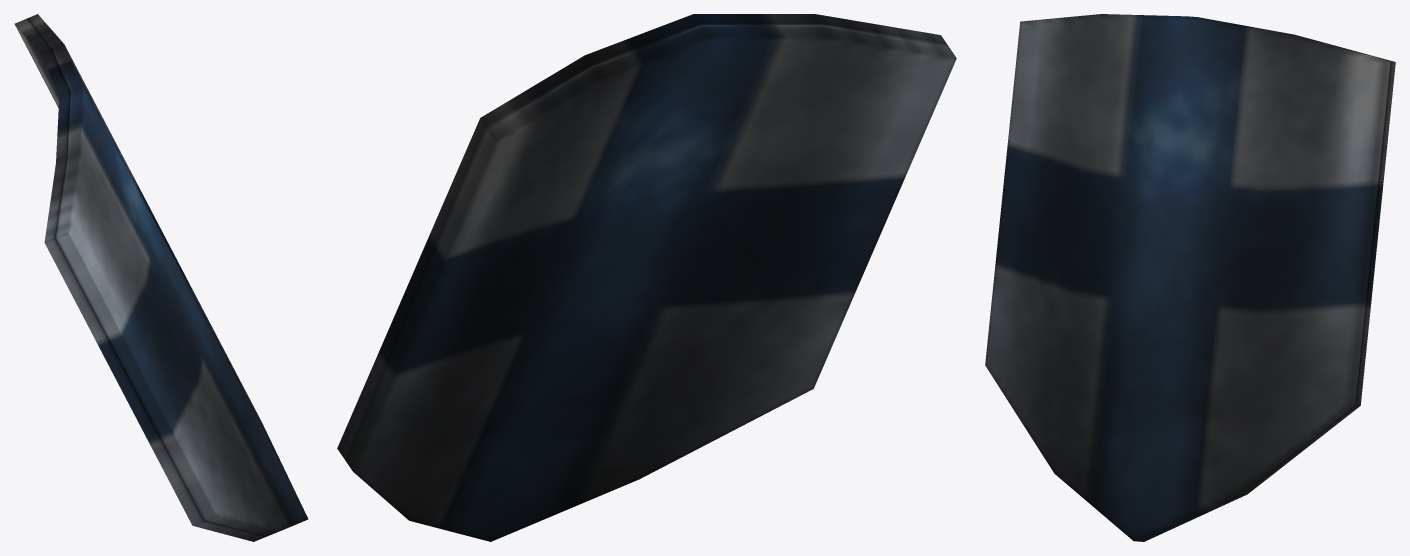
The model's file is shield 1.fbx.
The picture shows the model from 3 angles, left to right: view 1: azimuth 30°, elevation 25°; view 2: azimuth 150°, elevation 25°; view 3: azimuth 270°, elevation 25°; orthographic projection. The views are drawn at different scales.
Parts seen in each view (by area): view 1: Front_table.003; view 2: Front_table.003; view 3: Front_table.003.
Part boxes in pixels (left/top/right/bottom): Front_table.003: left=14, top=14, right=308, bottom=541; Front_table.003: left=337, top=14, right=956, bottom=541; Front_table.003: left=985, top=14, right=1395, bottom=541.
Bounding box in the file's own units: 0.7006 × 0.9607 × 0.8074.
